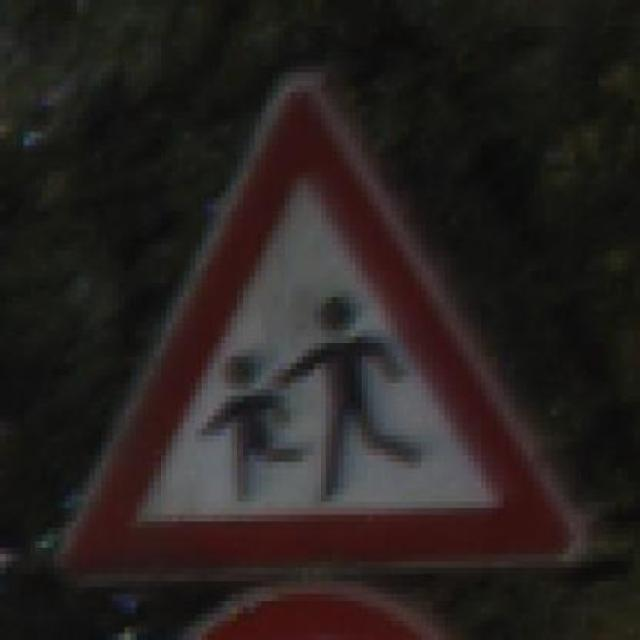Beware of children: (41, 59, 598, 581)
